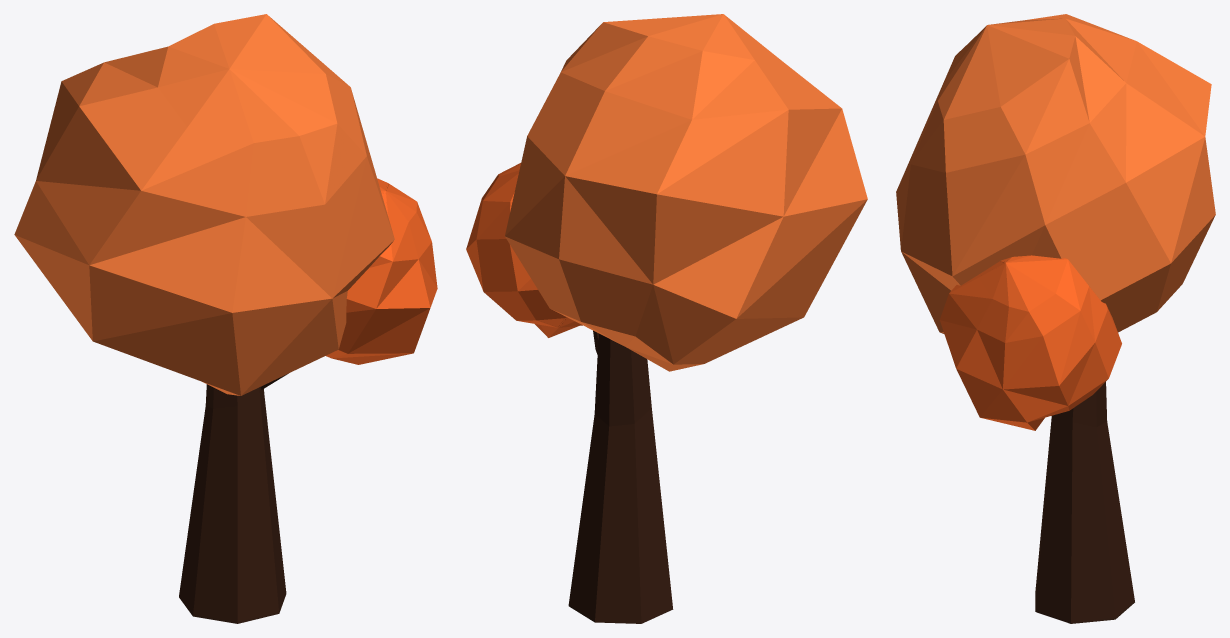
File: treFBX.fbx
3 renders of one model, left to right at view 1: azimuth 30°, elevation 25°; view 2: azimuth 150°, elevation 25°; view 3: azimuth 270°, elevation 25°, orthographic. The views are drawn at different scales.
Parts seen in each view (by area): view 1: Сфера.001, Цилиндр, Сфера; view 2: Сфера.001, Цилиндр, Сфера; view 3: Сфера.001, Сфера, Цилиндр.
Part boxes in pixels (<box>): Сфера.001: <box>14,14,394,395</box>; Цилиндр: <box>179,373,288,623</box>; Сфера: <box>326,178,437,364</box>; Сфера.001: <box>505,14,867,371</box>; Цилиндр: <box>568,330,673,623</box>; Сфера: <box>466,163,582,337</box>; Сфера.001: <box>896,14,1215,333</box>; Сфера: <box>939,255,1121,430</box>; Цилиндр: <box>1035,382,1134,623</box>.
Size of the model in its own units: 334 by 503 by 263.
